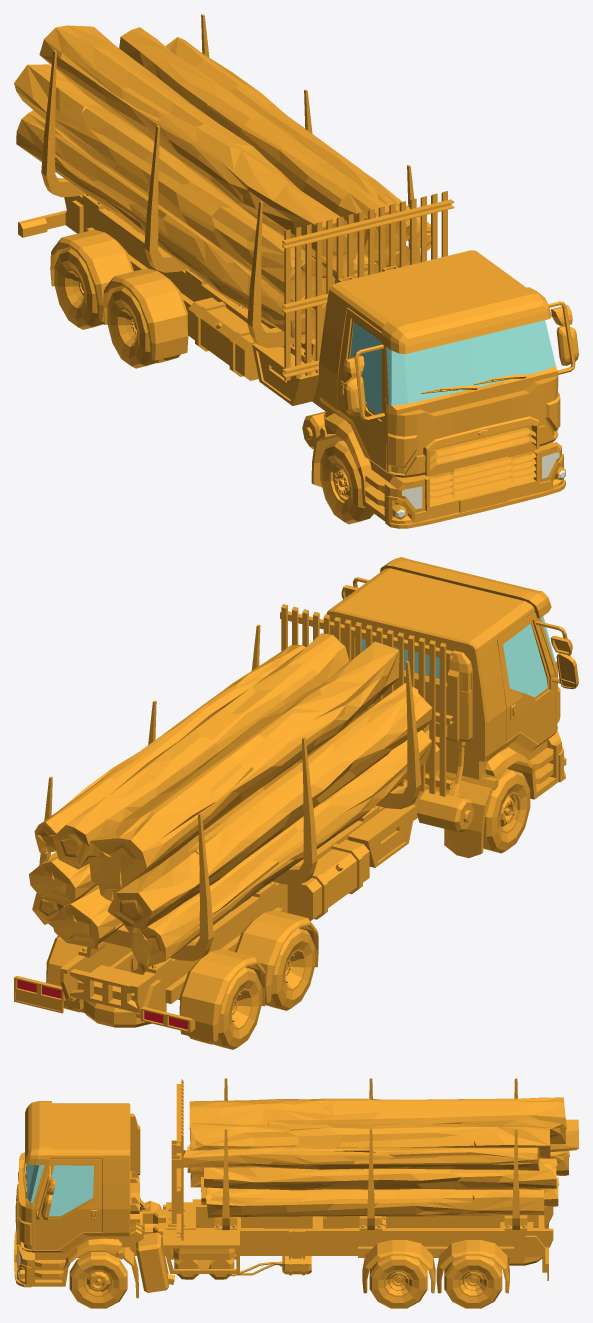
Rendered from SM_Car_Truck_Modern_Logging.fbx.
The picture shows the model from 3 angles, top to bottom: view 1: azimuth 30°, elevation 25°; view 2: azimuth 150°, elevation 25°; view 3: azimuth 270°, elevation 25°; orthographic projection. The views are drawn at different scales.
Parts seen in each view (by area): view 1: SM_Car_Truck_Modern_Logging_Base, SM_Car_Truck_Modern_Logging_Door_R, SM_Car_Truck_Modern_Logging_Wheel_RF, SM_Car_Truck_Modern_Logging_Wheel_RB1, SM_Car_Truck_Modern_Logging_Wheel_RB2, SM_Car_Truck_Modern_Logging_Door_L; view 2: SM_Car_Truck_Modern_Logging_Base, SM_Car_Truck_Modern_Logging_Door_R, SM_Car_Truck_Modern_Logging_Wheel_RF, SM_Car_Truck_Modern_Logging_Wheel_RB2, SM_Car_Truck_Modern_Logging_Wheel_RB1; view 3: SM_Car_Truck_Modern_Logging_Base, SM_Car_Truck_Modern_Logging_Door_L, SM_Car_Truck_Modern_Logging_Wheel_LF, SM_Car_Truck_Modern_Logging_Wheel_LB1, SM_Car_Truck_Modern_Logging_Wheel_LB2.
Boxes of the visible parts, left/top/right/bottom form: SM_Car_Truck_Modern_Logging_Base: left=14, top=14, right=565, bottom=528; SM_Car_Truck_Modern_Logging_Door_R: left=338, top=308, right=386, bottom=470; SM_Car_Truck_Modern_Logging_Wheel_RF: left=320, top=440, right=373, bottom=524; SM_Car_Truck_Modern_Logging_Wheel_RB1: left=107, top=286, right=180, bottom=368; SM_Car_Truck_Modern_Logging_Wheel_RB2: left=54, top=248, right=104, bottom=329; SM_Car_Truck_Modern_Logging_Door_L: left=548, top=301, right=578, bottom=374; SM_Car_Truck_Modern_Logging_Base: left=14, top=557, right=566, bottom=1041; SM_Car_Truck_Modern_Logging_Door_R: left=497, top=612, right=578, bottom=744; SM_Car_Truck_Modern_Logging_Wheel_RF: left=483, top=769, right=530, bottom=853; SM_Car_Truck_Modern_Logging_Wheel_RB2: left=188, top=967, right=261, bottom=1049; SM_Car_Truck_Modern_Logging_Wheel_RB1: left=264, top=928, right=315, bottom=1010; SM_Car_Truck_Modern_Logging_Base: left=14, top=1078, right=578, bottom=1298; SM_Car_Truck_Modern_Logging_Door_L: left=35, top=1159, right=102, bottom=1250; SM_Car_Truck_Modern_Logging_Wheel_LF: left=69, top=1252, right=127, bottom=1308; SM_Car_Truck_Modern_Logging_Wheel_LB1: left=369, top=1255, right=427, bottom=1308; SM_Car_Truck_Modern_Logging_Wheel_LB2: left=444, top=1255, right=502, bottom=1308.
Size of the model in its own units: 3.28 by 3.4 by 9.86.
